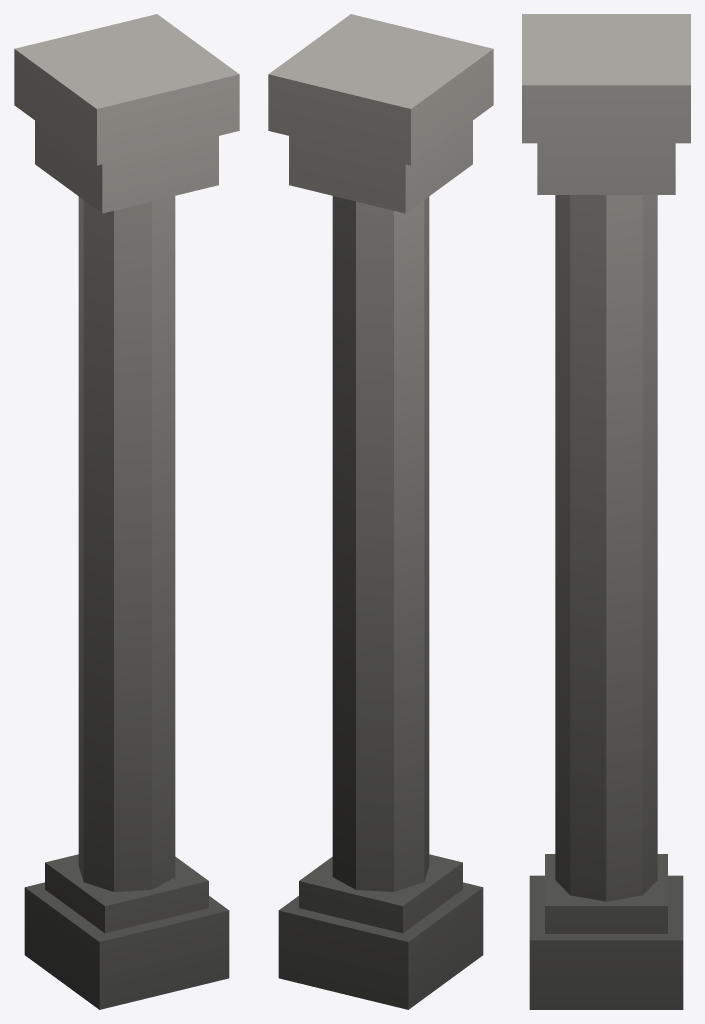
File: SM_Column.fbx
The picture shows the model from 3 angles, left to right: view 1: azimuth 30°, elevation 25°; view 2: azimuth 150°, elevation 25°; view 3: azimuth 270°, elevation 25°; orthographic projection. The views are drawn at different scales.
Visible parts, largest first — view 1: SM_Column; view 2: SM_Column; view 3: SM_Column.
Part boxes in pixels (x1,y1,x2,y2): SM_Column: (14,14,239,1009); SM_Column: (268,14,493,1009); SM_Column: (522,14,690,1009).
Size of the model in its own units: 0.66 by 4 by 0.66.
